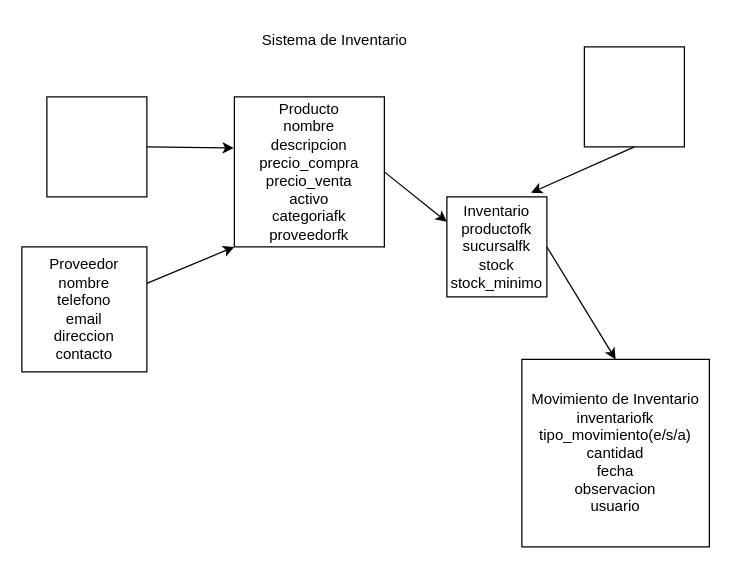
Image size: 731x569. Some labels were removed from this diagram. Here are the shapes that lost their labels. From the top down, the centre of each, then its label:
the point at 633,96: Sucursal nombre descripcion
the point at 96,146: Categoria nombre descripcion
